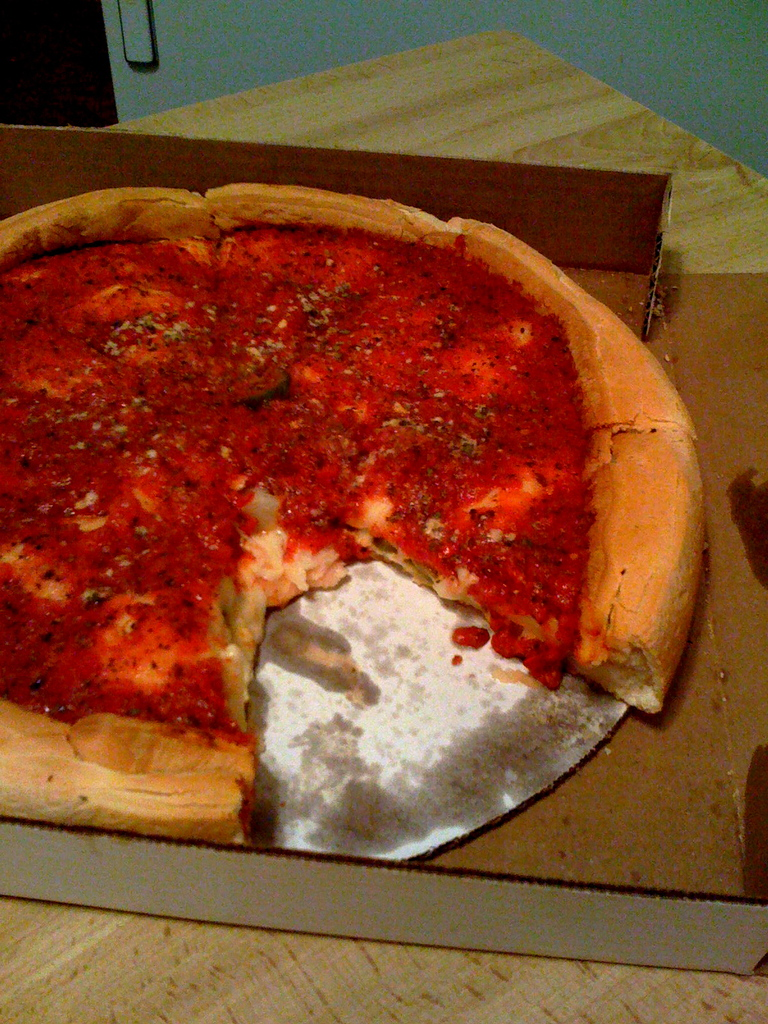Pizza: (11, 182, 726, 883)
